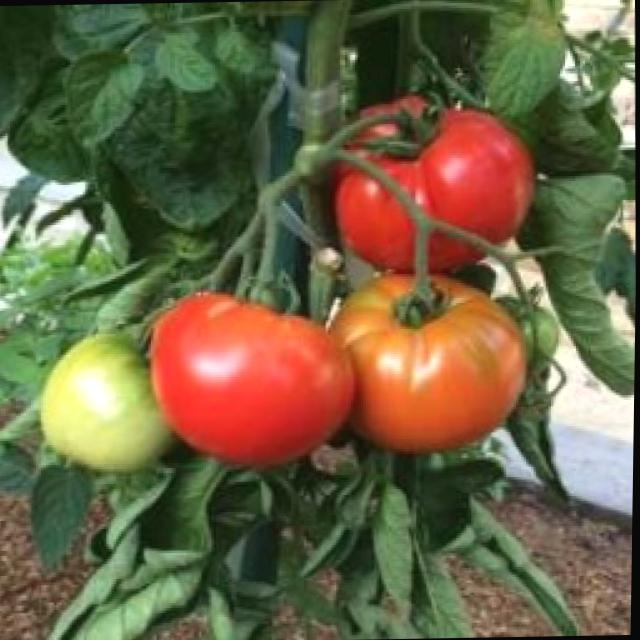tomato: (324, 271, 534, 457), (335, 96, 537, 270), (152, 290, 357, 460)
